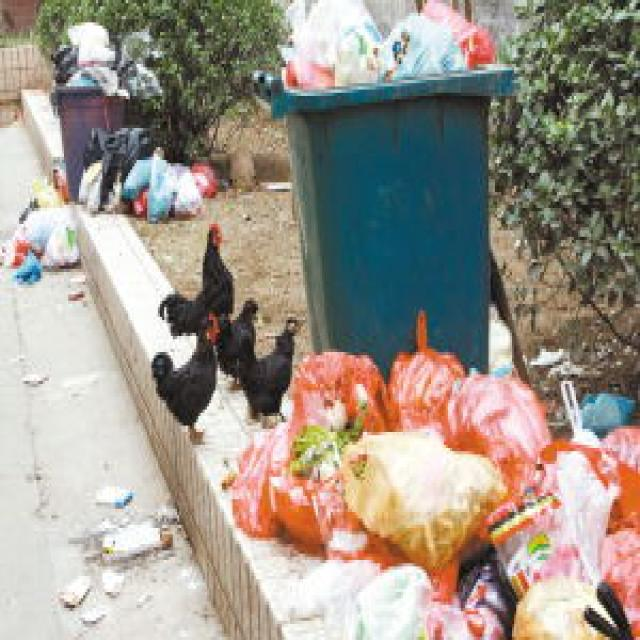garbage: (220, 304, 638, 637), (0, 124, 213, 281)
overflow: (267, 0, 514, 371), (47, 16, 124, 198)
